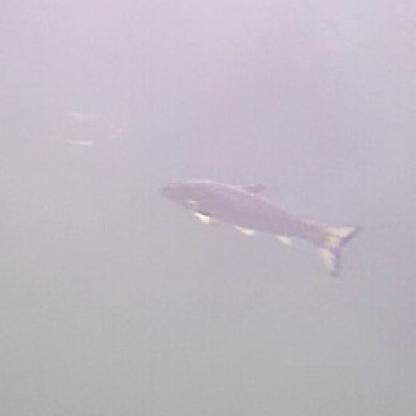salmon: (153, 173, 364, 272)
